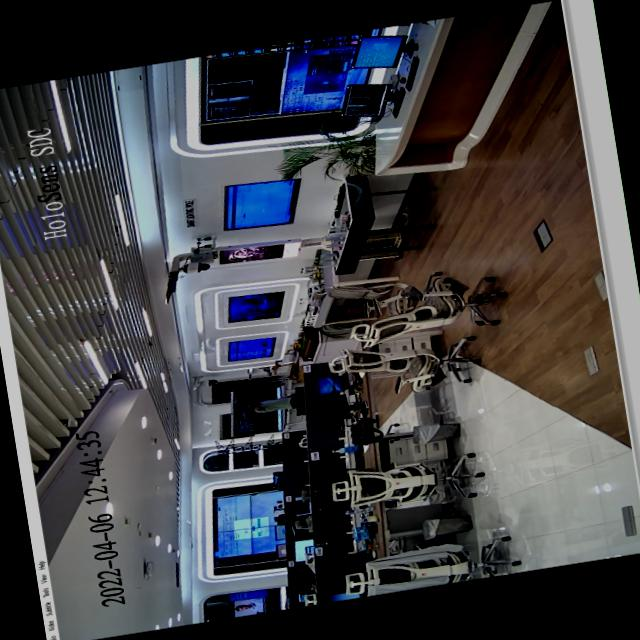long weapon: (246, 402, 263, 409)
